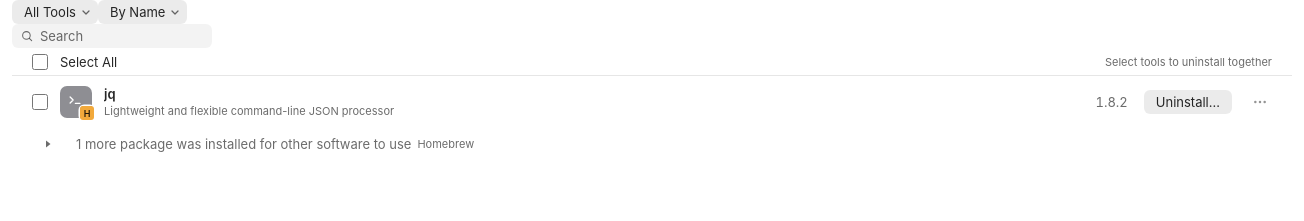
Test case: InstalledPage › draws a source's components as a 32-high line that discloses them: a 10pt triangle, 13 muted
This screenshot has width=1304, height=221.
Expected: the text "jq" is shown, [104,86,116,102]
Expected: the text "1 more package was installed for other software to use" is shown, [76,136,411,152]
Click the button "1 more package was installed for other software to use" at (244, 144), box [12,128,1292,160]
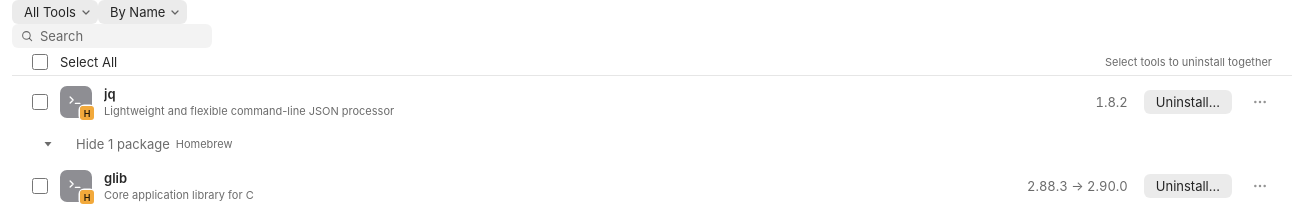
Result: the text "glib" is shown at [104,170,127,186]
